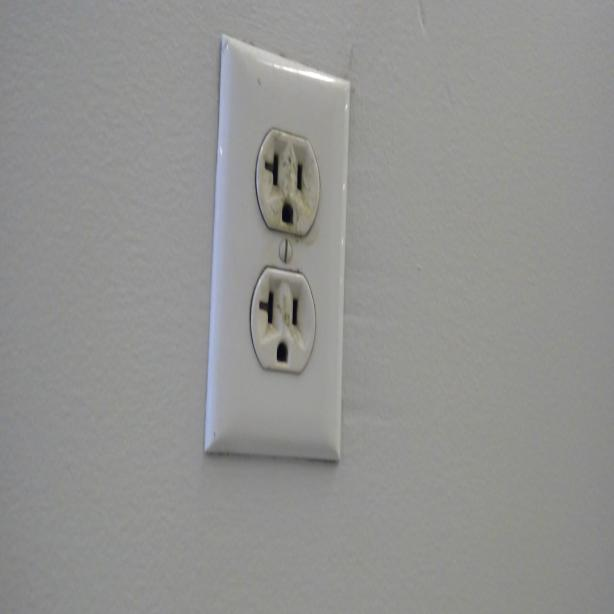typeb: (257, 129, 316, 231), (253, 272, 310, 367)
